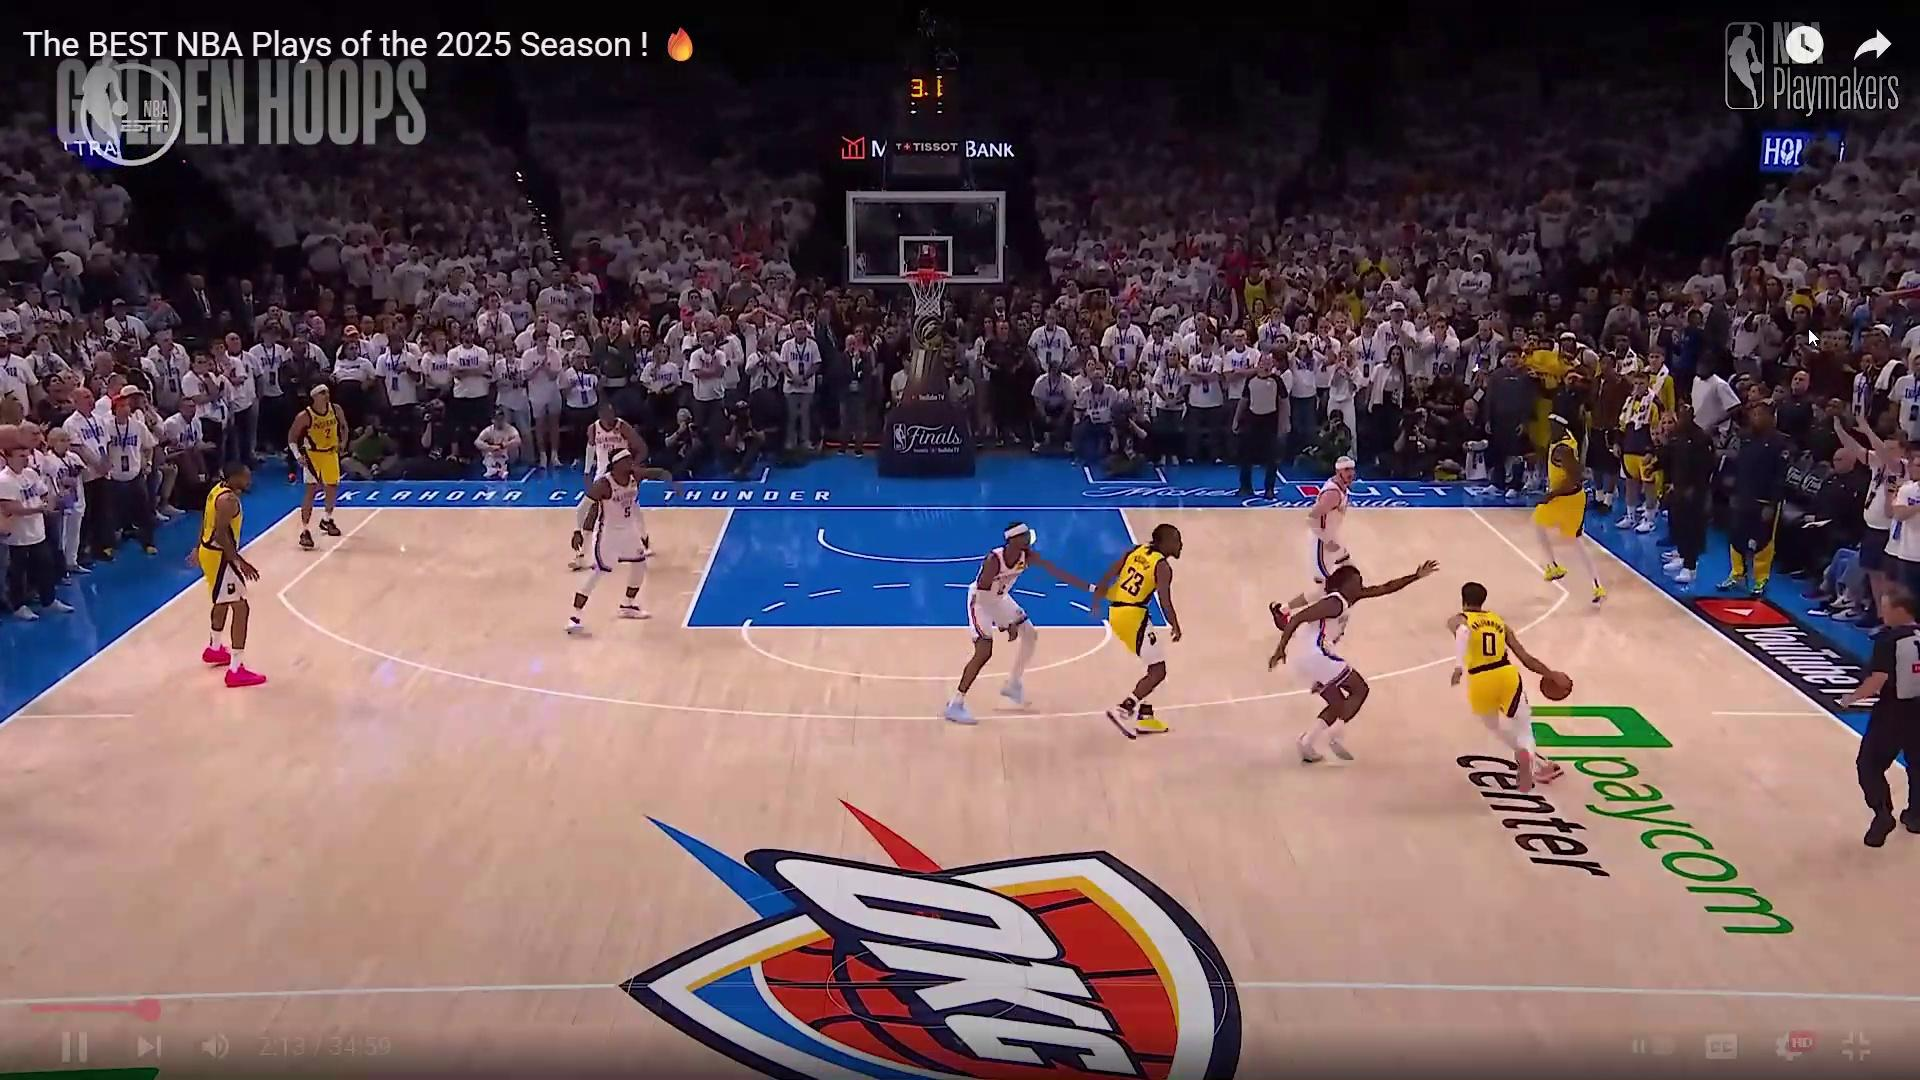ball: (1543, 665, 1576, 708)
hoop: (906, 265, 951, 315)
